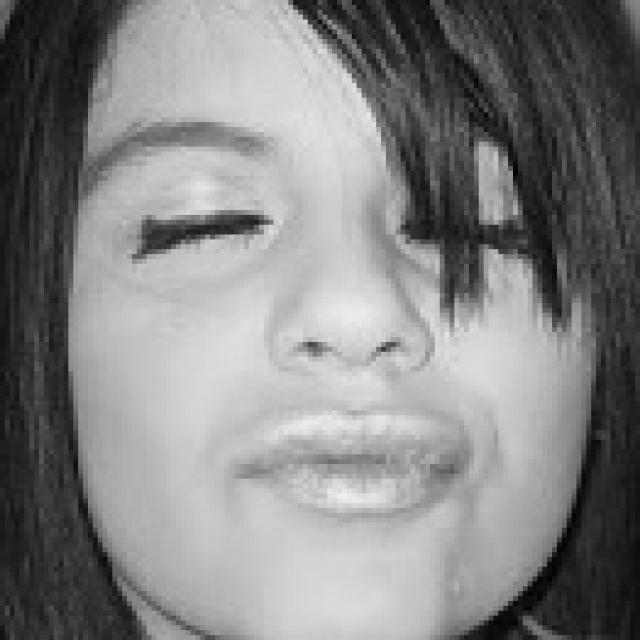real: (68, 0, 601, 640), (124, 178, 554, 286)
